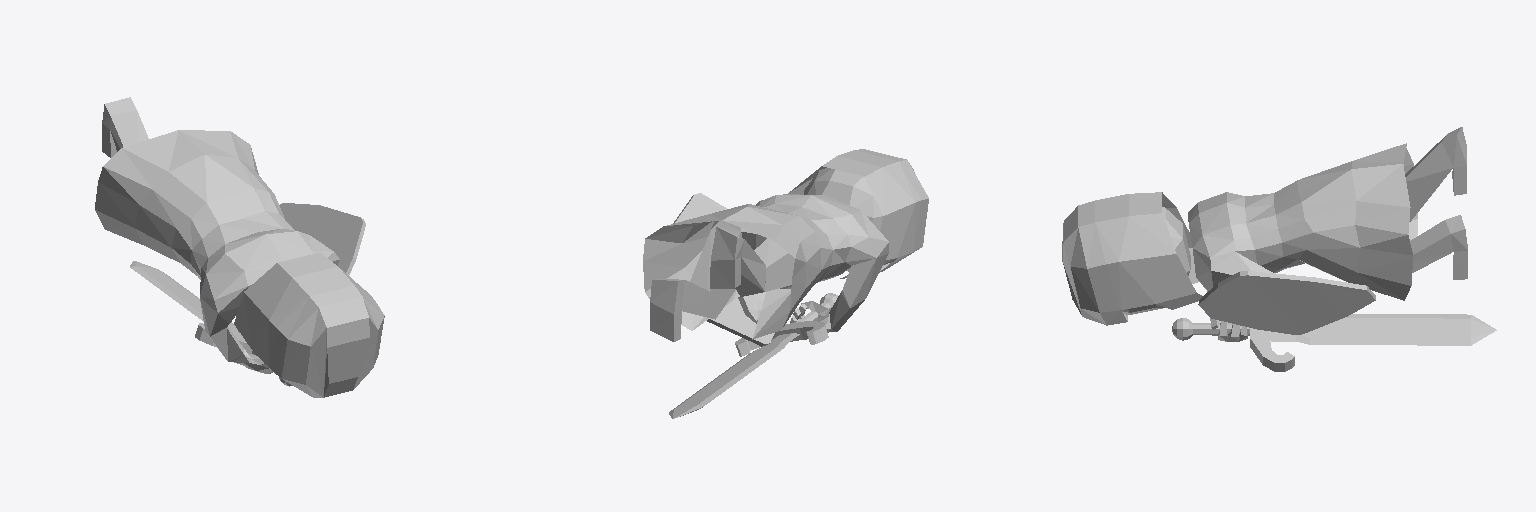
The model's file is knight_wounded.obj.
3 views of the same model, side by side, from view 1: azimuth 30°, elevation 25°; view 2: azimuth 150°, elevation 25°; view 3: azimuth 270°, elevation 25° (orthographic).
Visible parts, largest first — view 1: knight; view 2: knight; view 3: knight.
Boxes of the visible parts, box(x1,y1,x2,y2) form: knight: box(95, 97, 384, 397); knight: box(643, 149, 928, 418); knight: box(1062, 127, 1496, 371).
Bounding box in the file's own units: 4.35 × 4.67 × 8.93.